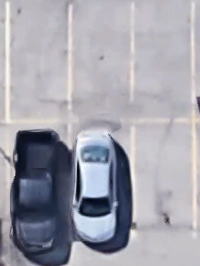Occupied: (6, 120, 70, 240), (69, 121, 134, 239)
Vacant: (7, 3, 72, 122), (70, 3, 133, 121), (133, 120, 195, 239), (131, 4, 194, 120)
